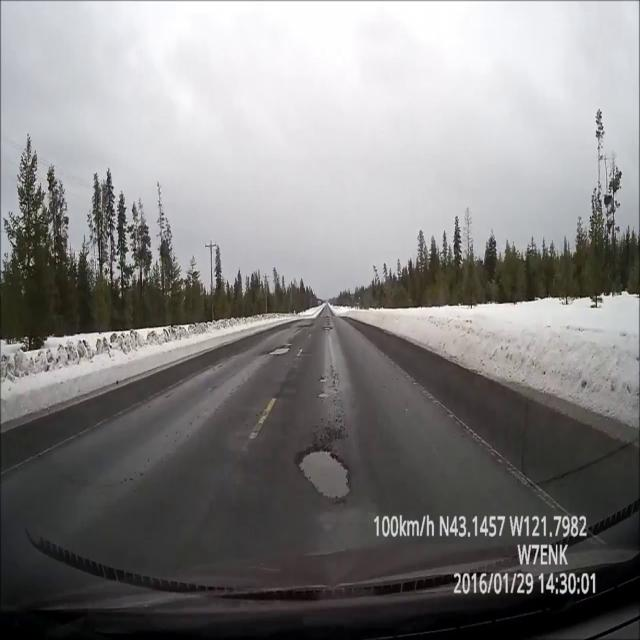Pothole: (295, 449, 352, 502), (268, 341, 291, 357), (296, 324, 314, 328), (323, 326, 332, 330), (327, 322, 330, 326), (326, 320, 331, 322), (326, 316, 330, 318)
